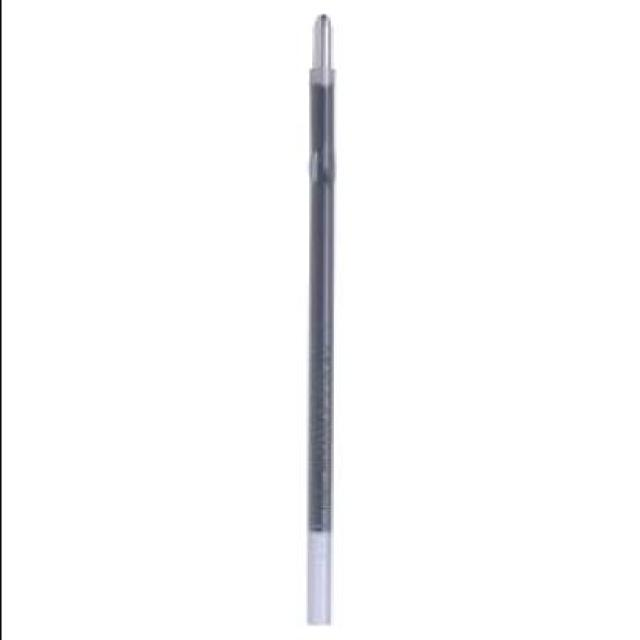pen: (308, 9, 339, 622)
